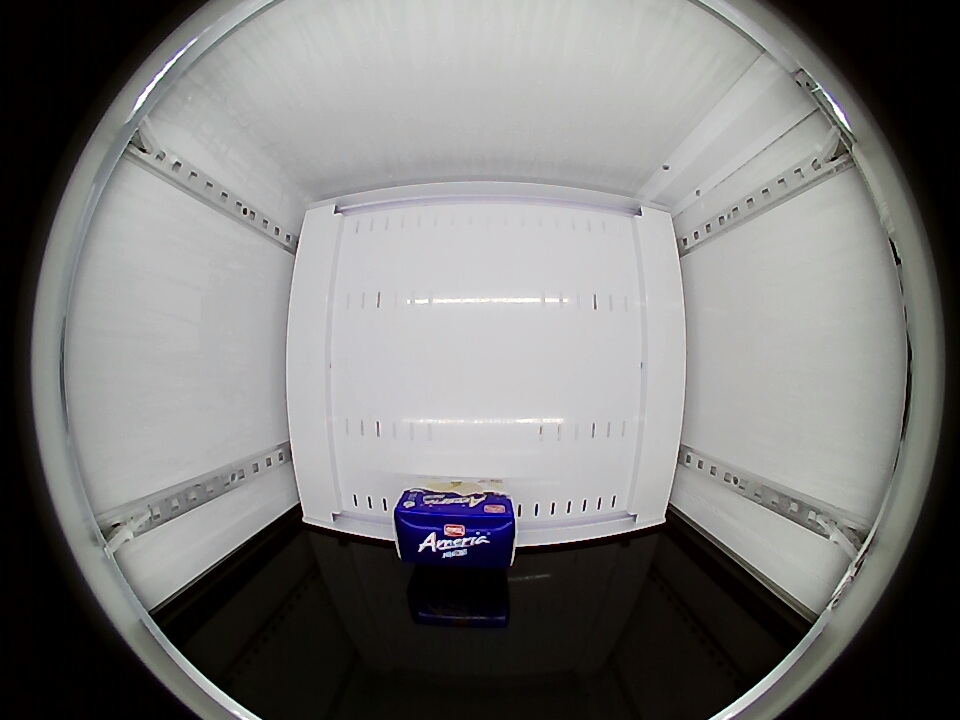meiniye: (394, 485, 518, 566)
